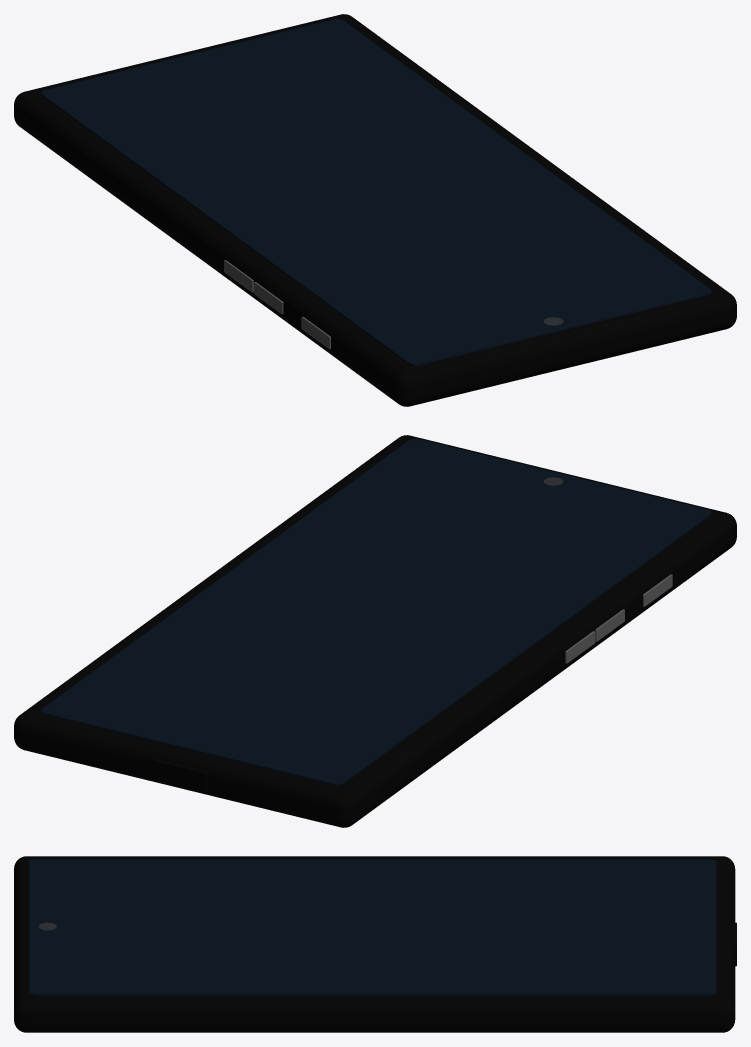
The model's file is phone.fbx.
The picture shows the model from 3 angles, top to bottom: view 1: azimuth 30°, elevation 25°; view 2: azimuth 150°, elevation 25°; view 3: azimuth 270°, elevation 25°; orthographic projection. The views are drawn at different scales.
Visible parts, largest first — view 1: Cube.001, Cube, Cube.002; view 2: Cube.001, Cube, Cube.003, Cube.002; view 3: Cube.001, Cube.
Part boxes in pixels (left/top/right/bottom): Cube.001: left=41, top=19, right=711, bottom=366; Cube: left=14, top=14, right=736, bottom=406; Cube.002: left=224, top=260, right=330, bottom=349; Cube.001: left=41, top=438, right=711, bottom=785; Cube: left=14, top=435, right=736, bottom=827; Cube.003: left=149, top=758, right=208, bottom=792; Cube.002: left=565, top=574, right=672, bottom=663; Cube.001: left=29, top=859, right=716, bottom=995; Cube: left=14, top=856, right=735, bottom=1032.
Bounding box in the file's own units: 703 × 73.42 × 1404.
